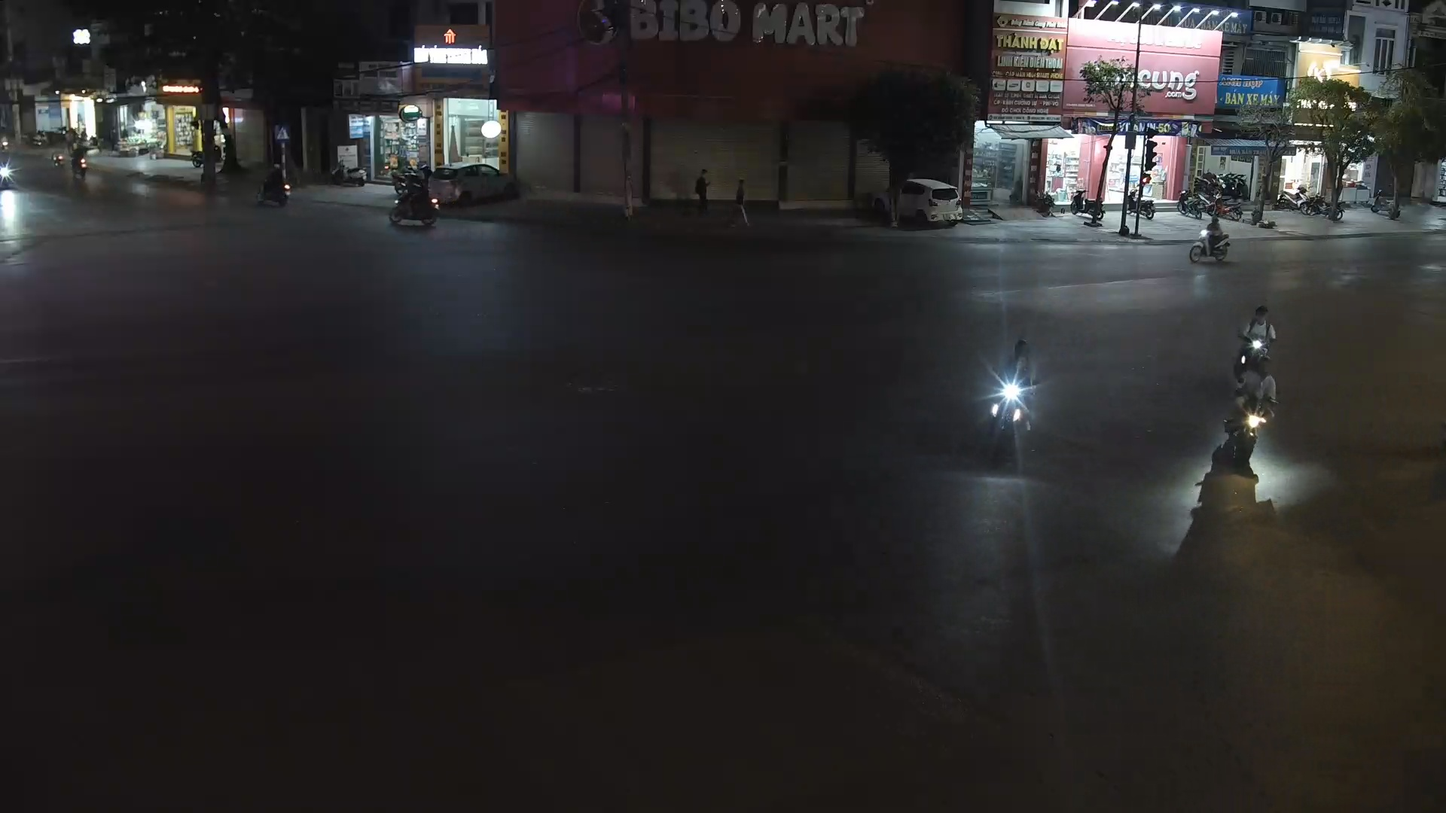car: (428, 158, 523, 209)
motorbike: (983, 335, 1045, 463), (1223, 344, 1281, 467), (1234, 300, 1280, 374), (387, 171, 440, 232), (1187, 214, 1232, 266)
